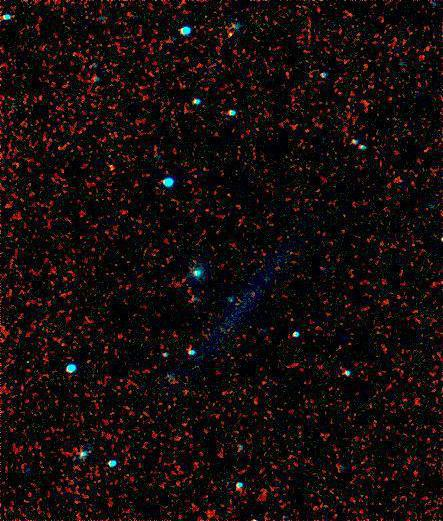star: (214, 17, 244, 47)
